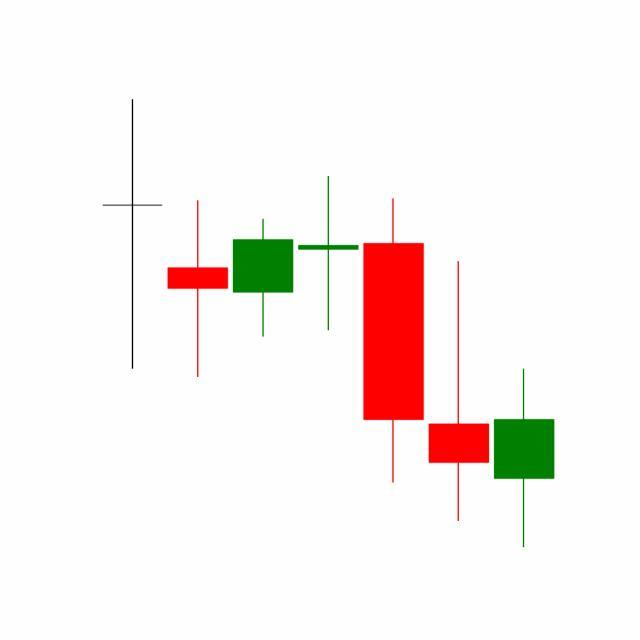Three Outside Up-Down: (295, 173, 492, 525)
